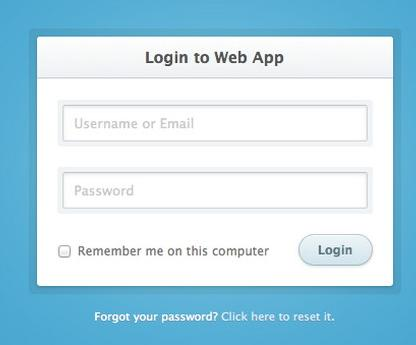button: (298, 234, 374, 268)
checkbox: (56, 244, 72, 259)
checkbox_with_label: (54, 242, 268, 262)
field: (57, 167, 375, 215), (57, 100, 373, 146)
